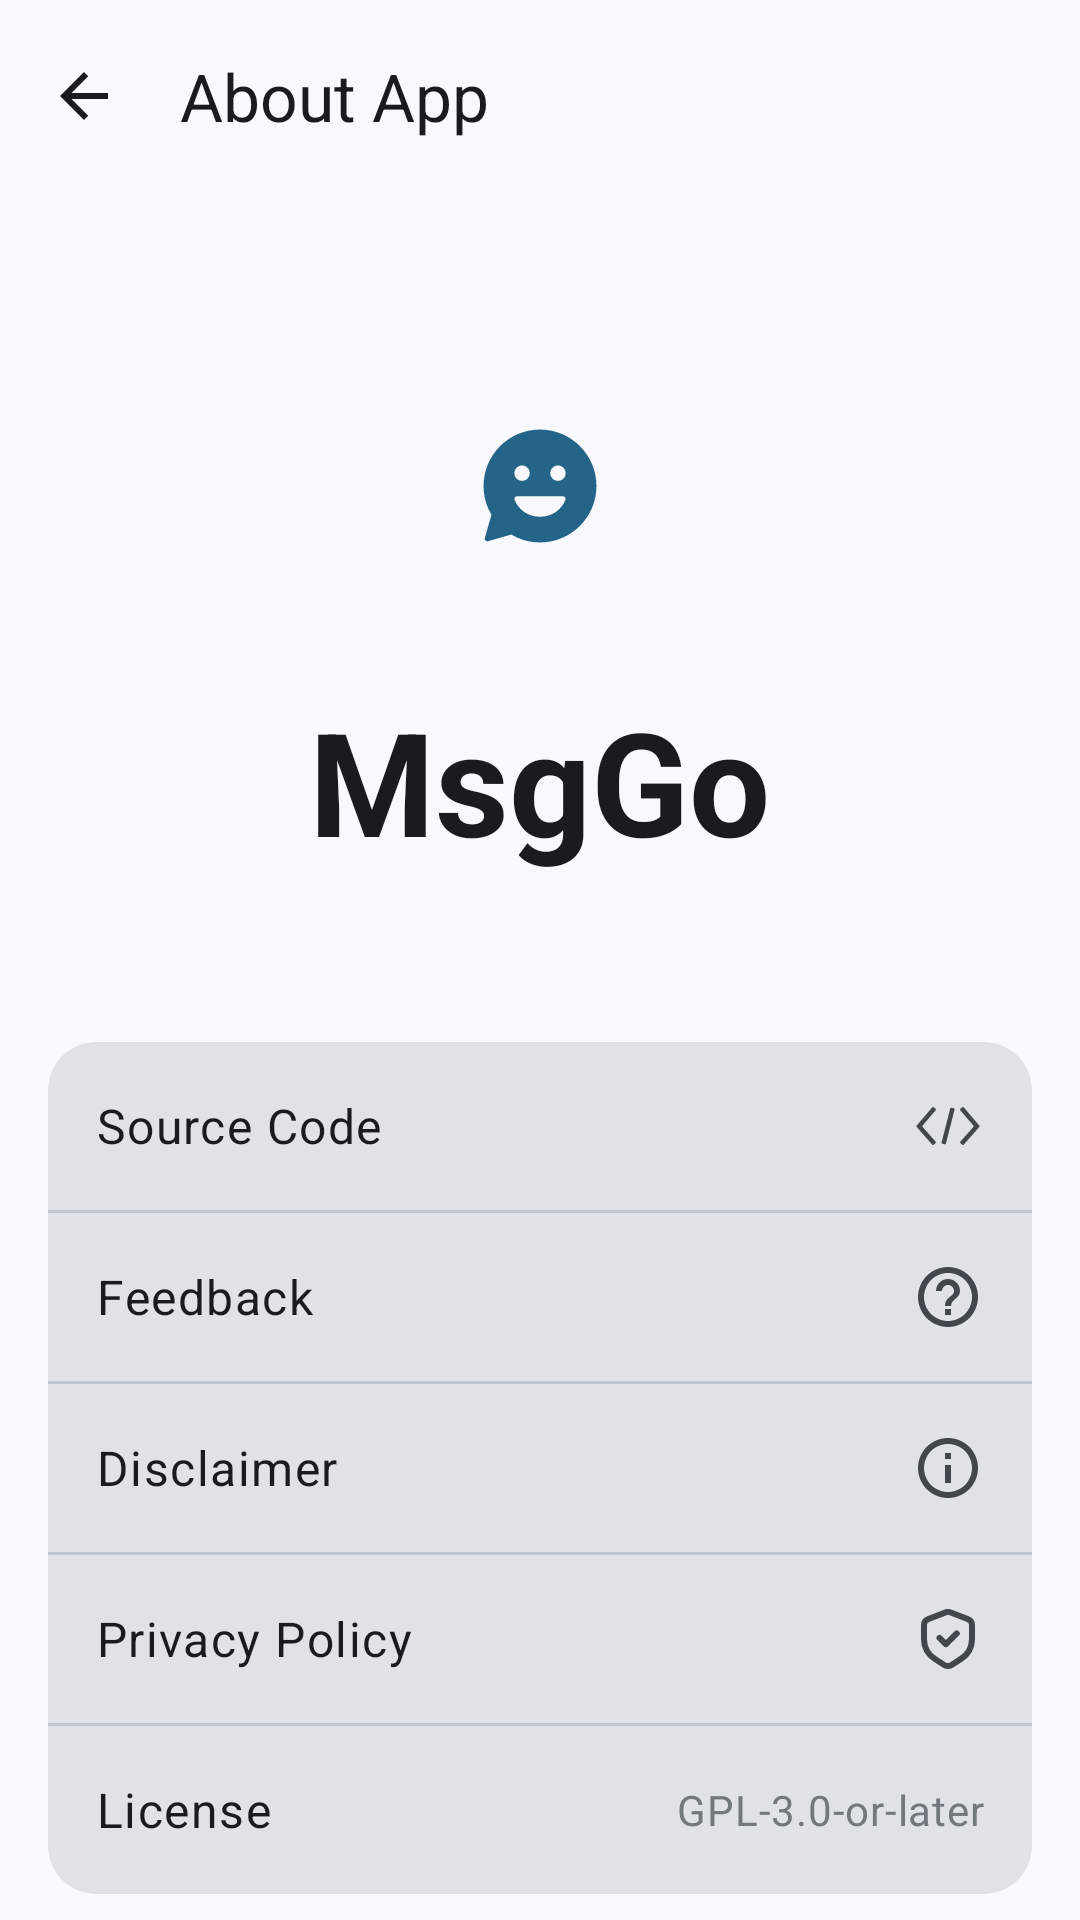

Where icons sit on this 1080x1920 app screen, as (x1, y1, x2, y2):
info: (918, 1438, 978, 1498)
safe: (921, 1609, 975, 1669)
